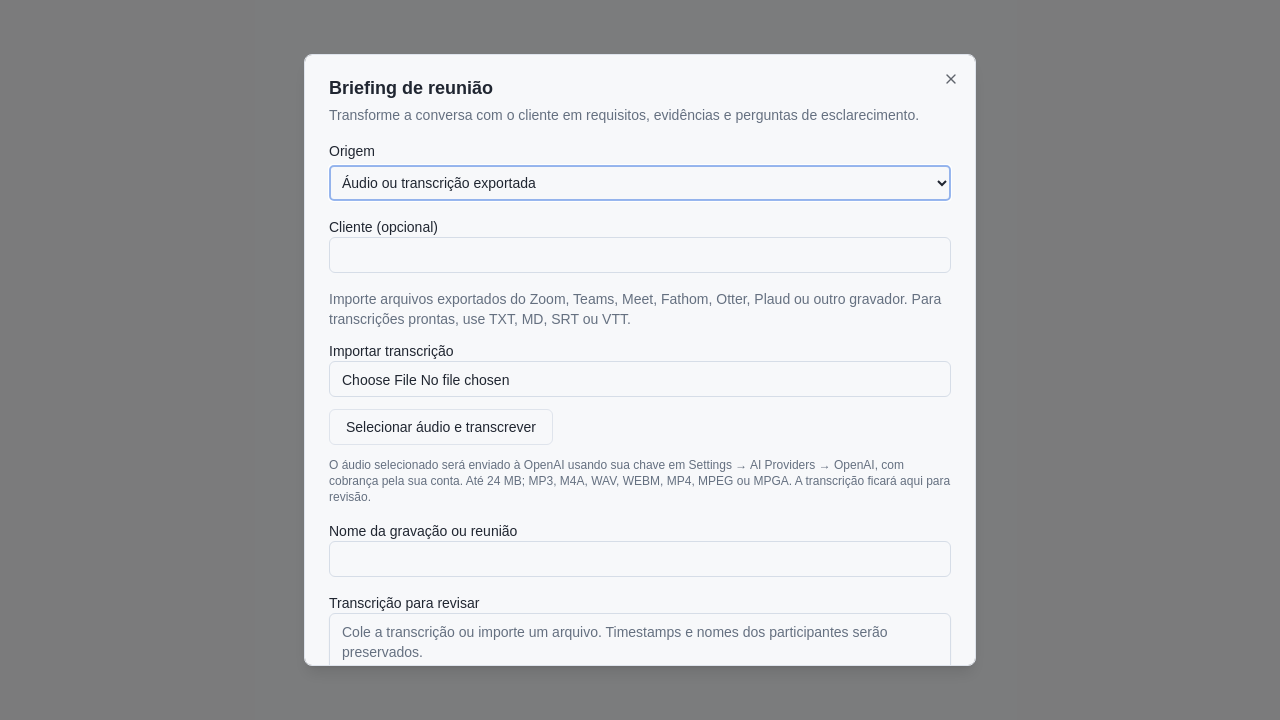
Test: puts transcription results into the review form
Click the button "Selecionar áudio e transcrever".
click(441, 427)  # box [329,409,553,445]
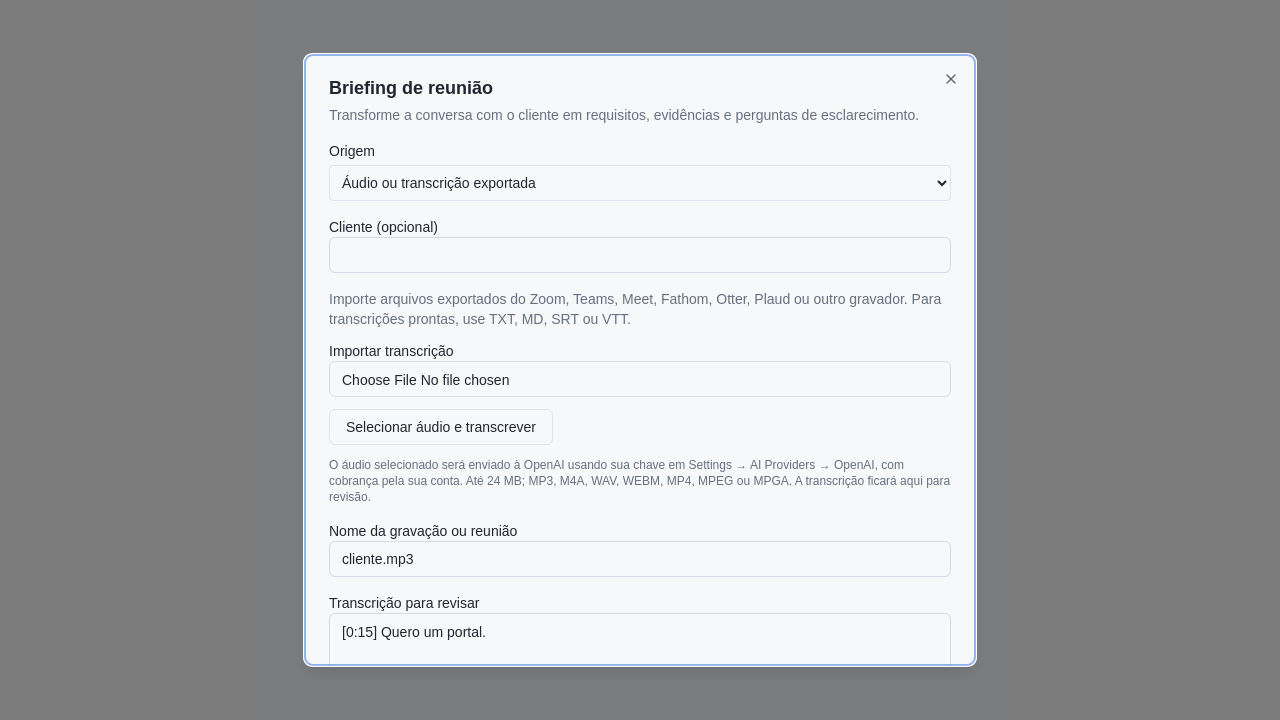
expect the field labelled "Nome da gravação ou reunião" holds "cliente.mp3": met, box [329,541,951,577]
